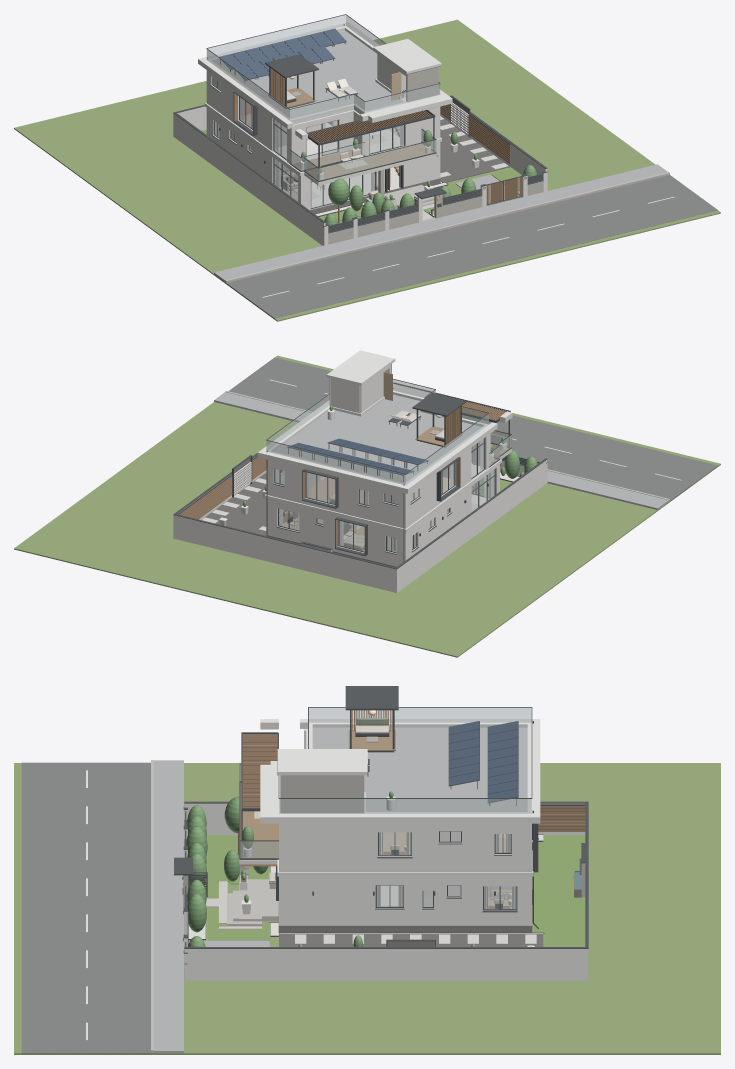
3 views of the same model, one above another, from view 1: azimuth 30°, elevation 25°; view 2: azimuth 150°, elevation 25°; view 3: azimuth 270°, elevation 25° (orthographic). The views are drawn at different scales.
Visible parts, largest first — view 1: world, roof-terrace-pavers, roof-guard-0, roof-overhang, right-passage-bed, ST-1-headhouse-lid, exterior-balcony-01-deck, roof-upstand, exterior-boundary-cladding--1.00, F1-family/floor, F0-living/floor, roof-sala-roof (+9 smaller); view 2: world, roof-terrace-pavers, roof-guard-0, roof-overhang, right-passage-bed, ST-1-headhouse-lid, roof-upstand, F1-slab-band, ST-1-roof-wall-rear/0, roof-sala-roof, F1-W054/1, F1-W042/1 (+3 smaller); view 3: world, roof-terrace-pavers, roof-guard-0, roof-overhang, rear-lawn-0, F0-W035/0, F1-W068/0, ST-1-headhouse-lid, plinth-band, right-passage-bed, roof-upstand, front-lawn-2 (+19 smaller).
Part boxes in pixels (<box>): world: <box>14,19,720,321</box>; roof-terrace-pavers: <box>214,30,403,118</box>; roof-guard-0: <box>206,15,440,121</box>; roof-overhang: <box>198,22,452,139</box>; right-passage-bed: <box>440,116,509,182</box>; ST-1-headhouse-lid: <box>373,39,441,74</box>; exterior-balcony-01-deck: <box>306,143,433,181</box>; roof-upstand: <box>207,26,439,122</box>; exterior-boundary-cladding--1.00: <box>328,211,418,244</box>; F1-family/floor: <box>275,129,403,158</box>; F0-living/floor: <box>279,171,399,207</box>; roof-sala-roof: <box>265,54,318,78</box>; world: <box>14,355,720,657</box>; roof-terrace-pavers: <box>273,394,481,483</box>; roof-guard-0: <box>266,379,488,485</box>; roof-overhang: <box>257,383,512,493</box>; right-passage-bed: <box>201,473,266,535</box>; ST-1-headhouse-lid: <box>326,350,395,385</box>; roof-upstand: <box>267,390,488,485</box>; F1-slab-band: <box>264,459,501,532</box>; ST-1-roof-wall-rear/0: <box>331,378,360,413</box>; roof-sala-roof: <box>412,393,466,416</box>; F1-W054/1: <box>289,466,347,508</box>; F1-W042/1: <box>423,451,466,509</box>; world: <box>14,710,720,1054</box>; roof-terrace-pavers: <box>312,727,527,811</box>; roof-guard-0: <box>279,707,531,813</box>; roof-overhang: <box>260,719,540,823</box>; rear-lawn-0: <box>534,835,585,946</box>; F0-W035/0: <box>283,876,367,925</box>; F1-W068/0: <box>283,823,367,871</box>; ST-1-headhouse-lid: <box>277,749,367,775</box>; plinth-band: <box>278,877,532,932</box>; right-passage-bed: <box>279,935,543,946</box>; roof-upstand: <box>279,722,531,813</box>; front-lawn-2: <box>208,835,268,898</box>.
Bounding box in the file's own units: 36.29 × 9.58 × 37.34.
